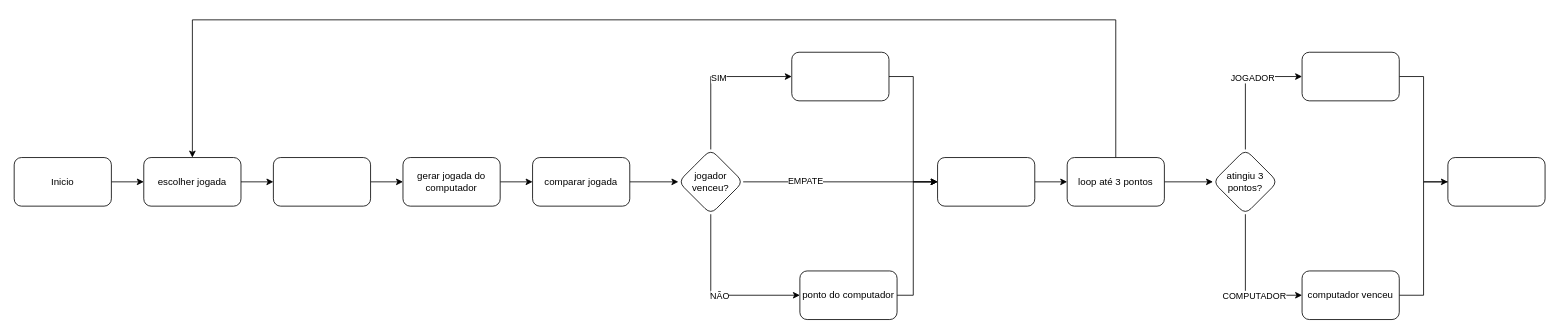
The diagram is 1559 pixels wide and 334 high, and some of its shapes have lost their labels. Each missing label, with the centre of its shape:
"FIM" goes at point (1496, 181).
"gerar jogada do jogador" goes at point (322, 181).
"jogador venceu" goes at point (1350, 76).
"mostrar placar" goes at point (986, 181).
"ponto do jogador" goes at point (840, 76).
